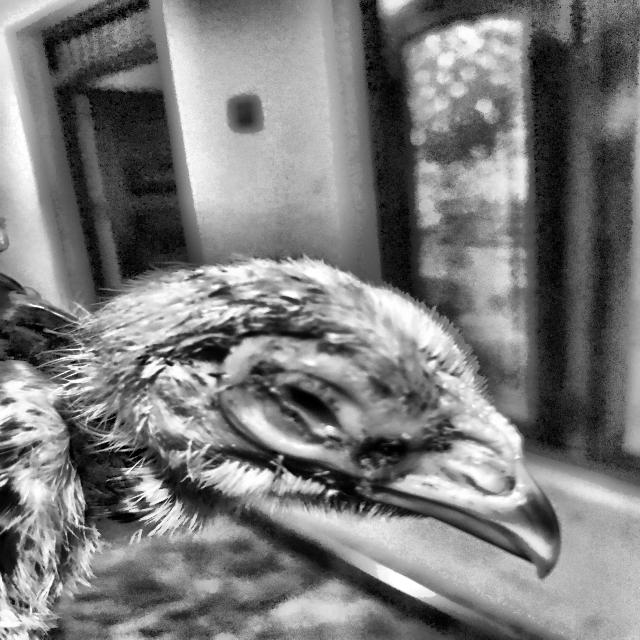Coryza: (98, 246, 576, 602)
